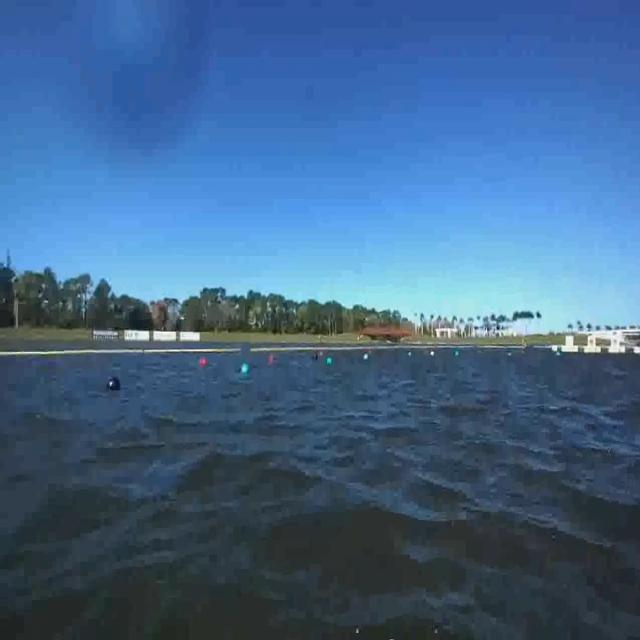black-buoy: (106, 376, 120, 394)
green-buoy: (240, 360, 250, 378), (328, 357, 335, 366)
red-buoy: (201, 357, 208, 367)
